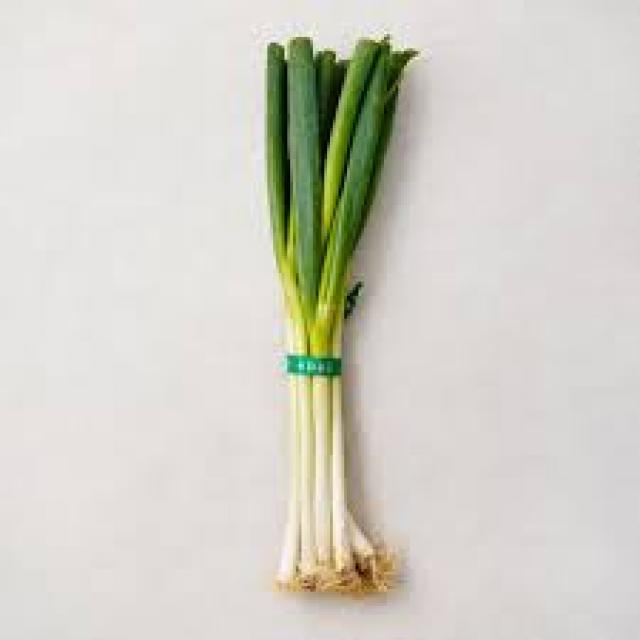spring_onion: (242, 0, 441, 609)
